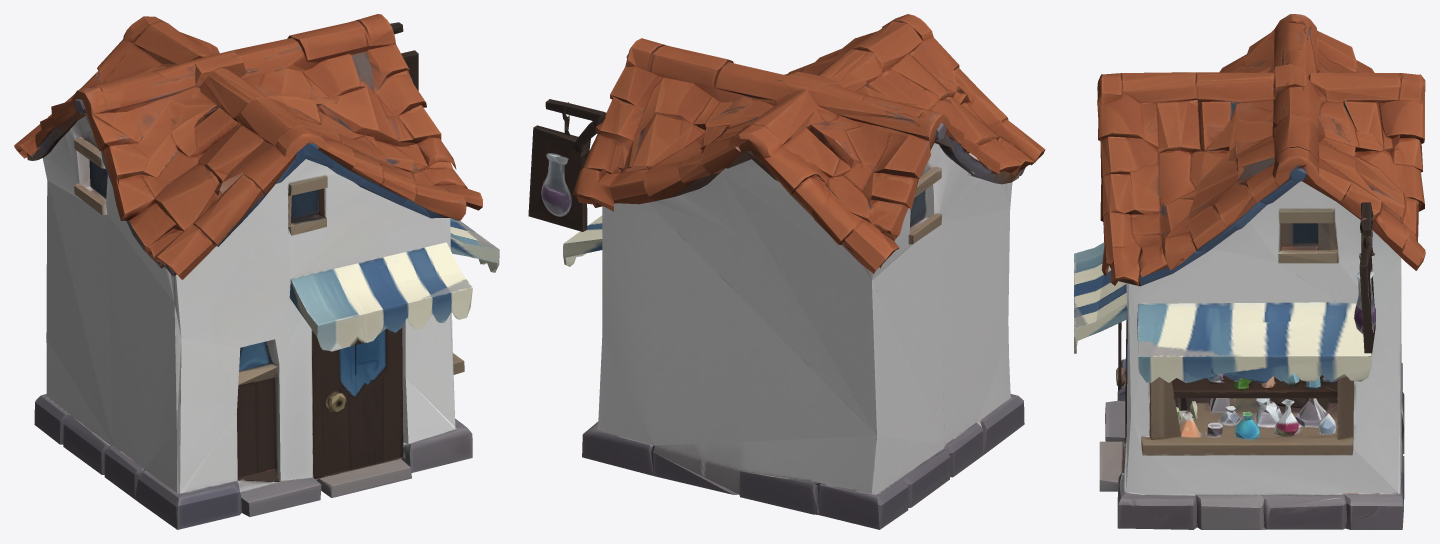
Rendered from item_shop.glb.
3 views of the same model, side by side, from view 1: azimuth 30°, elevation 25°; view 2: azimuth 150°, elevation 25°; view 3: azimuth 270°, elevation 25° (orthographic).
Parts seen in each view (by area): view 1: item_shop; view 2: item_shop; view 3: item_shop.
Boxes of the visible parts, x1=… form: item_shop: x1=14, y1=14, x2=499, y2=529; item_shop: x1=528, y1=14, x2=1045, y2=529; item_shop: x1=1074, y1=14, x2=1425, y2=529.
Size of the model in its own units: 6.9 by 6.5 by 5.53.
1 material, 1 textured.
